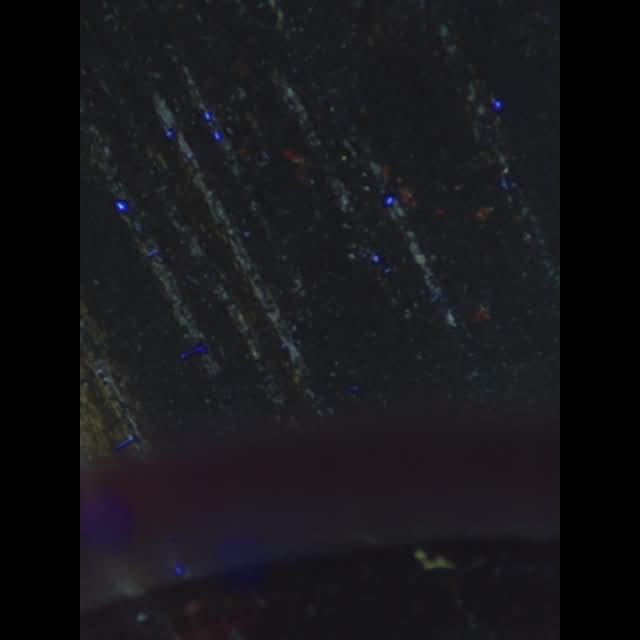Fibre: (414, 548, 454, 572)
